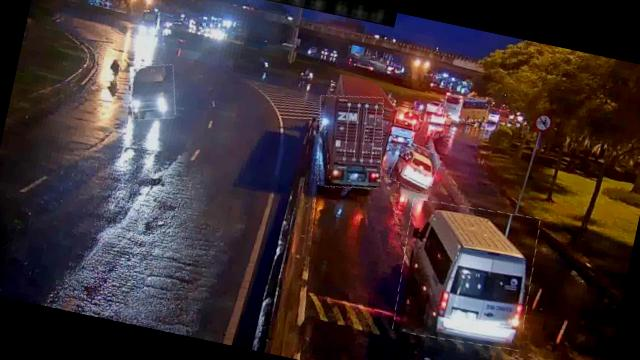Bike: (106, 53, 122, 80)
Bus: (388, 194, 544, 354), (123, 58, 183, 124), (380, 118, 416, 164), (442, 92, 488, 126)
Car: (388, 141, 441, 194), (394, 107, 422, 131), (424, 105, 452, 128)
Truck: (307, 88, 394, 195)
